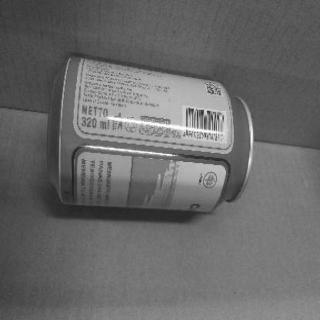alumunium_can: (44, 50, 256, 216)
